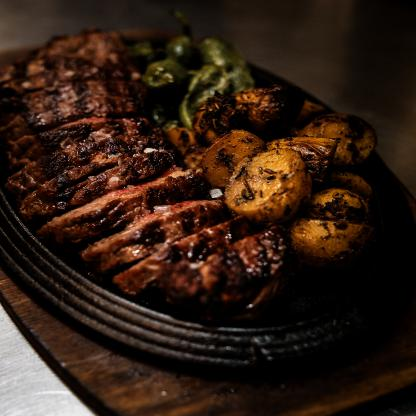Carne: (47, 166, 191, 242), (80, 192, 218, 271), (168, 230, 290, 310), (115, 214, 231, 298), (22, 143, 155, 215), (3, 73, 124, 124), (1, 108, 129, 156)
